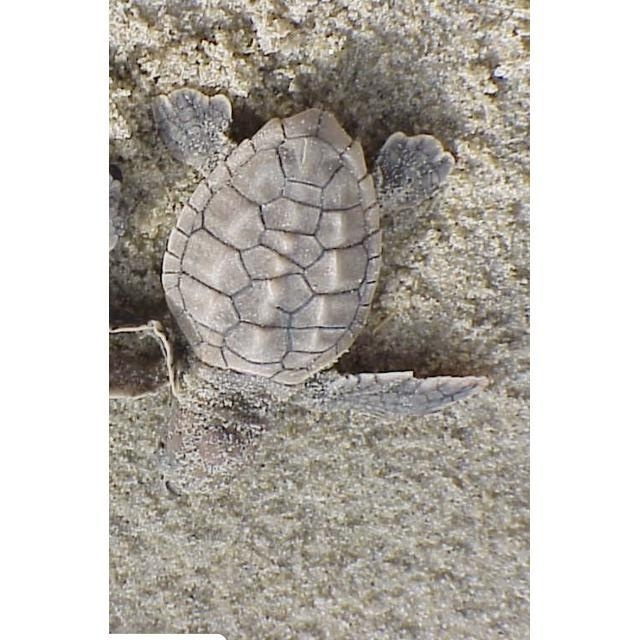turtle: (111, 88, 492, 499)
